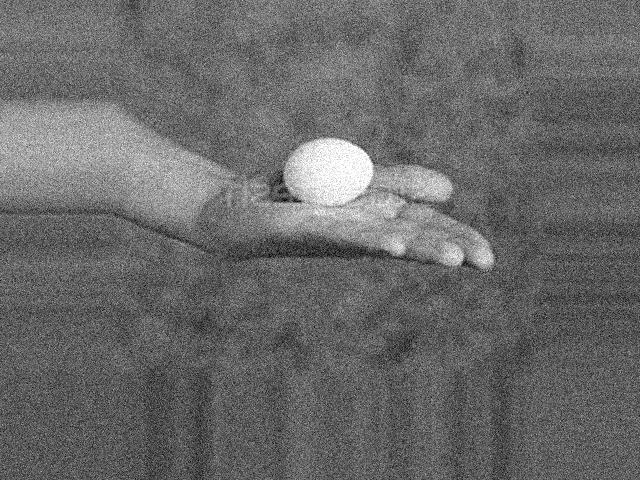egg: (282, 136, 372, 206)
